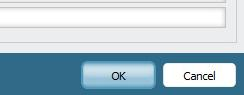button: (77, 59, 157, 90), (161, 60, 238, 89)
